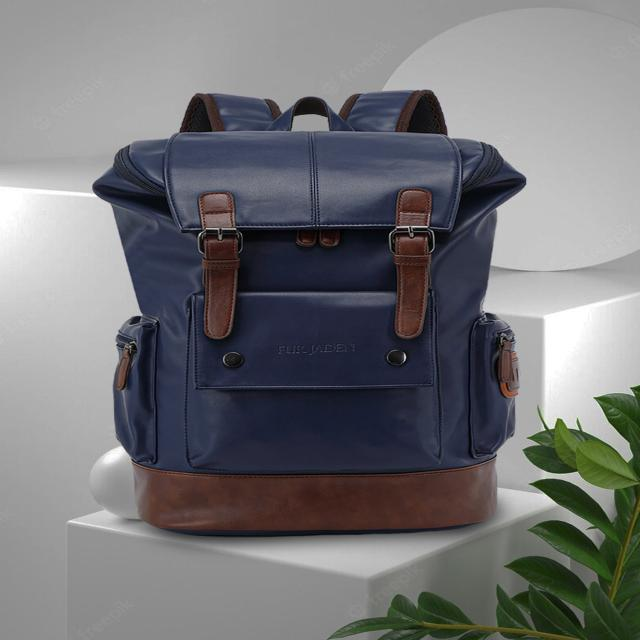backpack: (93, 90, 528, 537)
